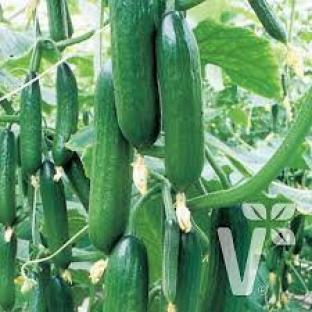Cucumber: (89, 62, 133, 253), (157, 12, 203, 191), (202, 207, 250, 311), (103, 236, 148, 311), (53, 63, 79, 166), (41, 161, 69, 253), (177, 231, 202, 311), (20, 81, 41, 174), (0, 129, 16, 226), (64, 153, 90, 210), (163, 220, 180, 303), (0, 227, 16, 310), (28, 264, 51, 311), (46, 276, 74, 311), (66, 0, 73, 37)
